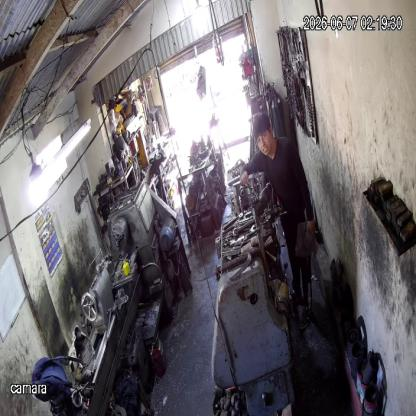sin_lentes: (254, 132, 270, 144)
